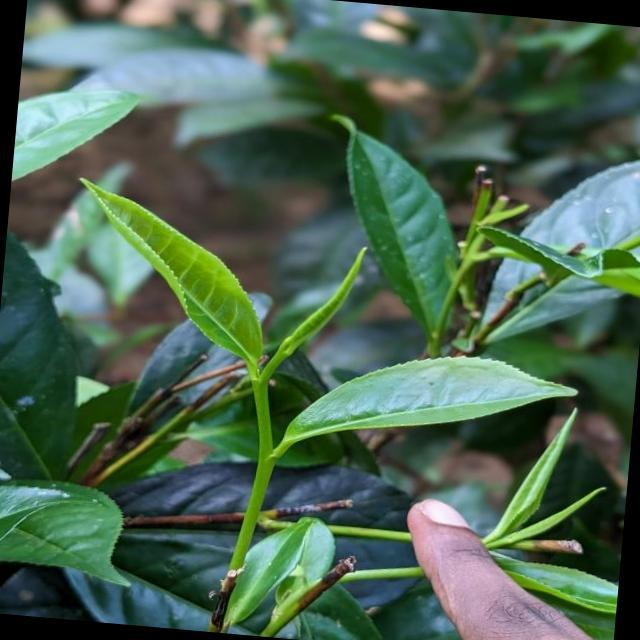Stem: (254, 381, 269, 399)
